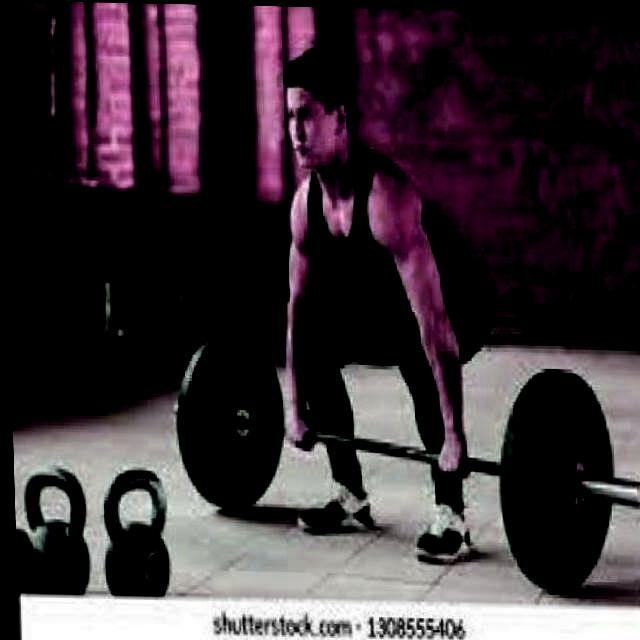barbell: (505, 369, 640, 597)
